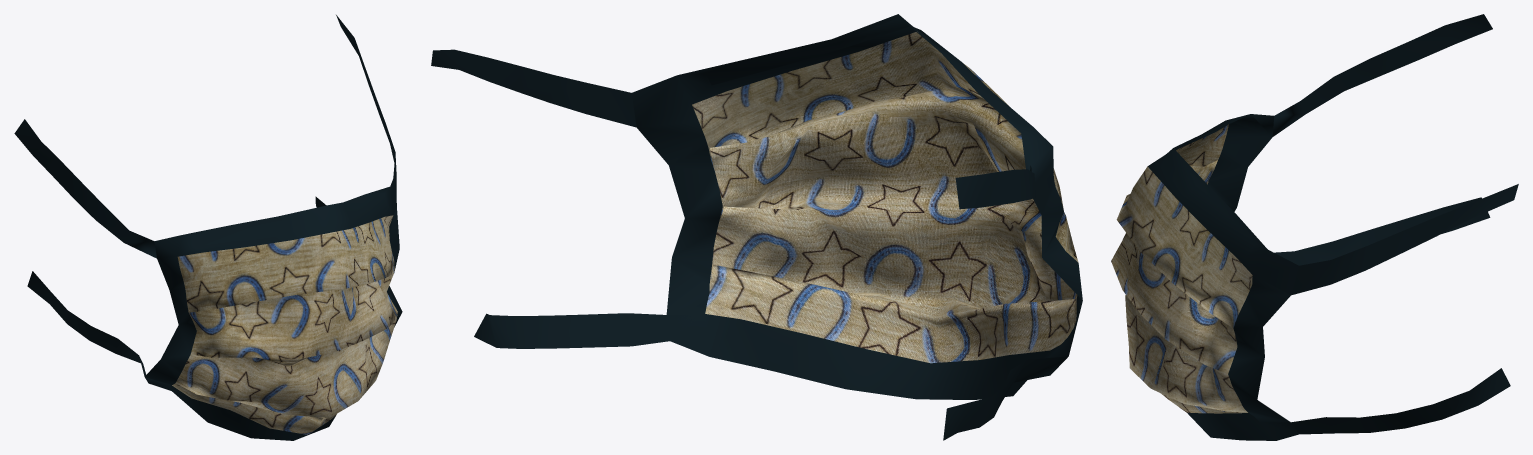
The model's file is faceMask.glb.
3 renders of one model, left to right at view 1: azimuth 30°, elevation 25°; view 2: azimuth 150°, elevation 25°; view 3: azimuth 270°, elevation 25°, orthographic. The views are drawn at different scales.
Visible parts, largest first — view 1: Object_4, Object_3; view 2: Object_4, Object_3; view 3: Object_3, Object_4.
Boxes of the visible parts, x1,y1,x2,y2 form: Object_4: (172,215,397,434); Object_3: (14,15,402,440); Object_4: (692,31,1078,363); Object_3: (431,14,1082,440); Object_3: (1147,14,1518,440); Object_4: (1111,124,1252,413).
Size of the model in its own units: 0.1165 by 0.0942 by 0.1045.
Materials: 2 (1 with a texture image).
